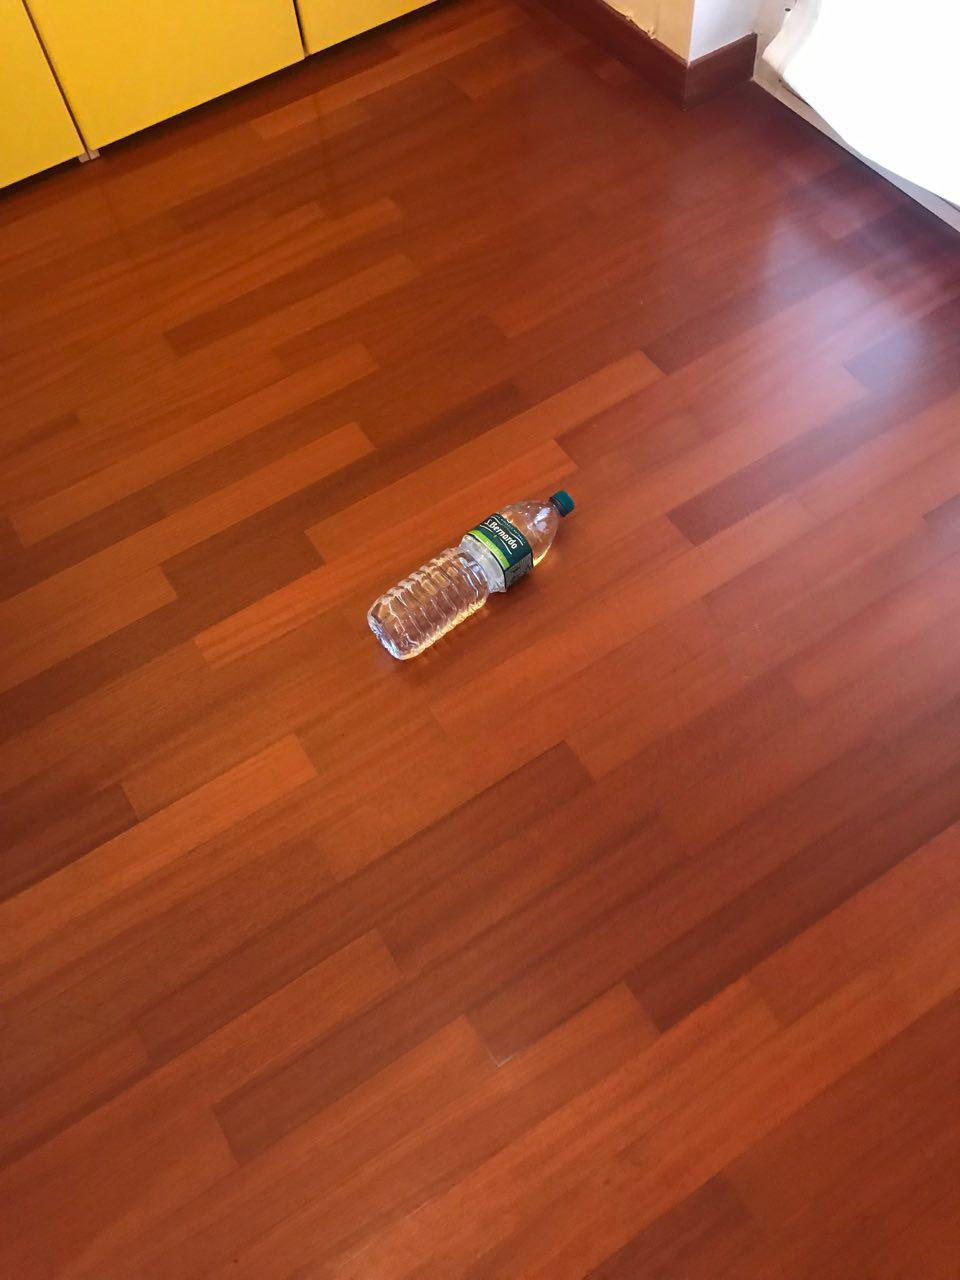san_bernardo: (366, 487, 577, 662)
